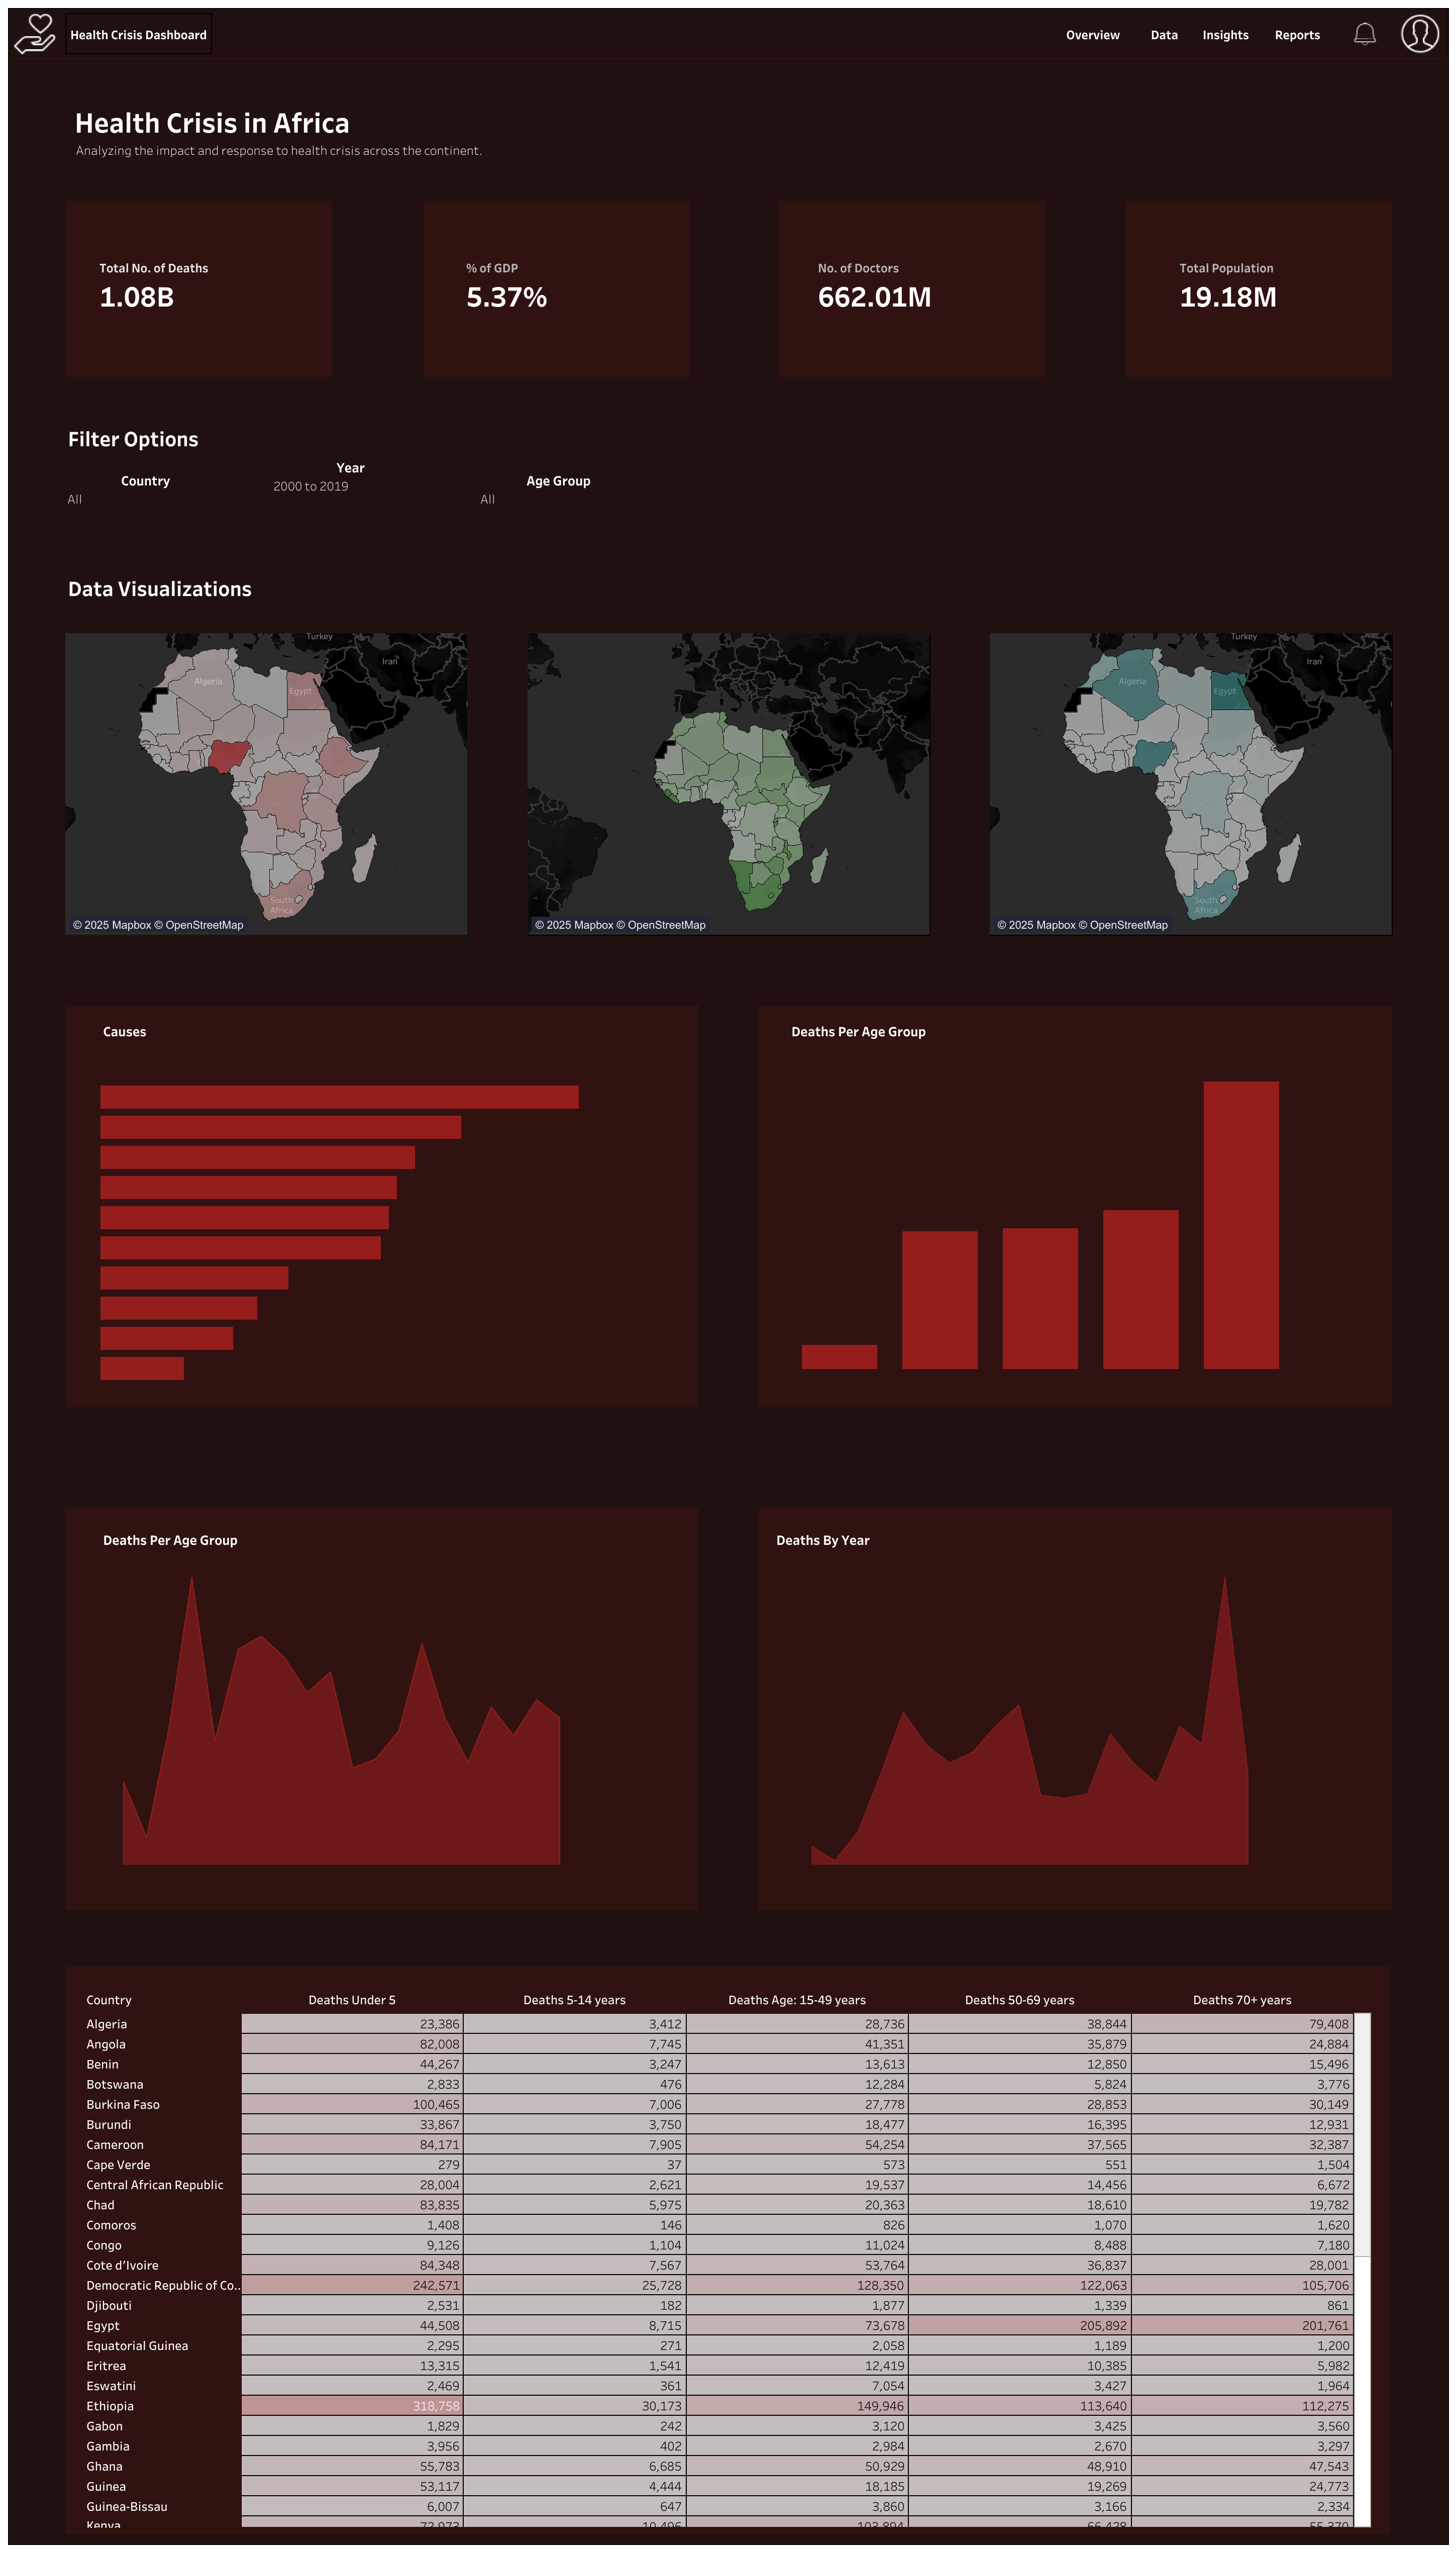

This screenshot's page, from the dashboard's own definition file:
{"tool":"tableau","page":{"name":"Tackling Health Crisis Dashboard","canvas":[1450,2540],"ordinal":0},"visuals":[{"type":"image","param":"Image/icons8-health-50.png","box":[9,9,52,49]},{"type":"text","box":[61,9,154,49]},{"type":"text","box":[1045.9,9,84.3,49]},{"type":"text","box":[1130.2,9,57.8,49]},{"type":"text","box":[1188,9,63.7,49]},{"type":"text","box":[1251.8,9,79.4,49]},{"type":"image","param":"Image/icons8-bell-100 (1).png","box":[1331.2,9,54.9,49]},{"type":"image","param":"Image/icons8-user-icon-50.png","box":[1386,9,55,49]},{"type":"text","box":[60,70,550,119]},{"type":"worksheet","title":"Total No of Deaths","mark":"Automatic","box":[95,225,220,120]},{"type":"worksheet","title":"% of GDP","mark":"Automatic","box":[460,225,220,120]},{"type":"worksheet","title":"No of Doctors","mark":"Automatic","box":[810,225,220,120]},{"type":"worksheet","title":"Total Population","mark":"Automatic","box":[1170,225,170,120]},{"type":"text","box":[65,421,150,30]},{"type":"filter","title":"Death Per Age Group Per Year","param":"[federated.19z26sx0wp74yo1h4grbf0d2stvi].[none:Year:qk]","box":[269,454,160,60]},{"type":"filter","title":"Map of Health Expenditure(% of GDP)","param":"[federated.19z26sx0wp74yo1h4grbf0d2stvi].[none:Entity:nk]","box":[65,467,160,60]},{"type":"filter","title":"Deaths Per Age Group Per country","param":"[federated.19z26sx0wp74yo1h4grbf0d2stvi].[none:Age Group:nk]","box":[476,467,160,60]},{"type":"text","box":[65,570,200,30]},{"type":"worksheet","title":"Map of Deaths","mark":"Automatic","box":[65,630,400,300]},{"type":"worksheet","title":"Map of Health Expenditure(% of GDP)","mark":"Automatic","box":[525,630,400,300]},{"type":"worksheet","title":"Map of No. Of Doctors","mark":"Automatic","box":[985,630,400,300]},{"type":"text","box":[100,1010,100,30]},{"type":"text","box":[785,1010,150,30]},{"type":"worksheet","title":"No of Deaths Per Age Group","mark":"Automatic","rows":["Deaths per age group"],"cols":["Age Group"],"box":[785,1062,500,300]},{"type":"worksheet","title":"Causes of Death","mark":"Automatic","rows":["Cause"],"cols":["Deaths"],"box":[100,1076,500,300]},{"type":"text","box":[100,1516,140,30]},{"type":"text","box":[770,1516,100,30]},{"type":"worksheet","title":"Death Per Age Group Per Year","mark":"Area","rows":["Deaths per age group"],"cols":["Year"],"box":[100,1555,480,300]},{"type":"worksheet","title":"No of Deaths Per Year","mark":"Area","rows":["Deaths"],"cols":["Year"],"box":[785,1555,480,300]},{"type":"worksheet","title":"Deaths Per Age Group Per country","mark":"Square","rows":["Entity"],"cols":["Age Group"],"box":[80,1975,1285,539]}]}

Visuals, with their boxes in screenshot pixels (x1, y1, x2, y2), scaled from the page's 1450x2540 canvas onto the 1456x2552 screenshot:
image: BBox(9, 9, 61, 58)
text: BBox(61, 9, 216, 58)
text: BBox(1050, 9, 1135, 58)
text: BBox(1135, 9, 1193, 58)
text: BBox(1193, 9, 1257, 58)
text: BBox(1257, 9, 1337, 58)
image: BBox(1337, 9, 1392, 58)
image: BBox(1392, 9, 1447, 58)
text: BBox(60, 70, 612, 190)
"Total No of Deaths" worksheet: BBox(95, 226, 317, 347)
"% of GDP" worksheet: BBox(462, 226, 683, 347)
"No of Doctors" worksheet: BBox(813, 226, 1034, 347)
"Total Population" worksheet: BBox(1175, 226, 1345, 347)
text: BBox(65, 423, 216, 453)
"Death Per Age Group Per Year" filter: BBox(270, 456, 431, 517)
"Map of Health Expenditure(% of GDP)" filter: BBox(65, 469, 226, 530)
"Deaths Per Age Group Per country" filter: BBox(478, 469, 639, 530)
text: BBox(65, 573, 266, 603)
"Map of Deaths" worksheet: BBox(65, 633, 467, 934)
"Map of Health Expenditure(% of GDP)" worksheet: BBox(527, 633, 929, 934)
"Map of No. Of Doctors" worksheet: BBox(989, 633, 1391, 934)
text: BBox(100, 1015, 201, 1045)
text: BBox(788, 1015, 939, 1045)
"No of Deaths Per Age Group" worksheet: BBox(788, 1067, 1290, 1368)
"Causes of Death" worksheet: BBox(100, 1081, 602, 1383)
text: BBox(100, 1523, 241, 1553)
text: BBox(773, 1523, 874, 1553)
"Death Per Age Group Per Year" worksheet (Area marks): BBox(100, 1562, 582, 1864)
"No of Deaths Per Year" worksheet (Area marks): BBox(788, 1562, 1270, 1864)
"Deaths Per Age Group Per country" worksheet (Square marks): BBox(80, 1984, 1371, 2526)
